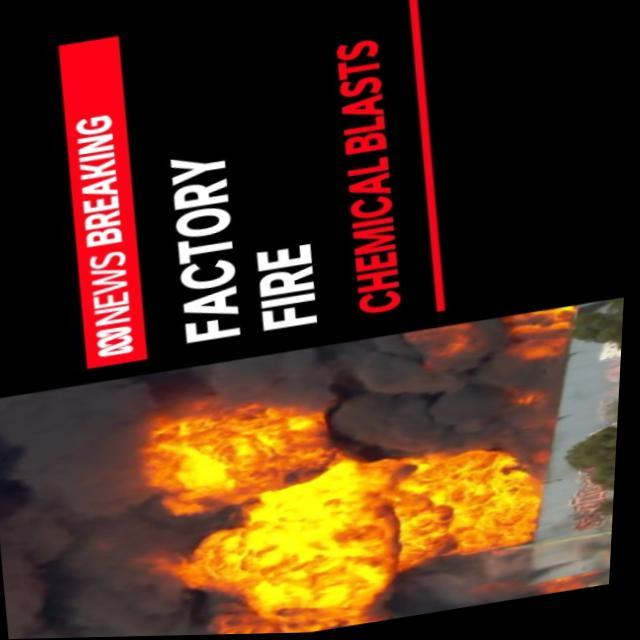fire: (141, 330, 593, 638)
